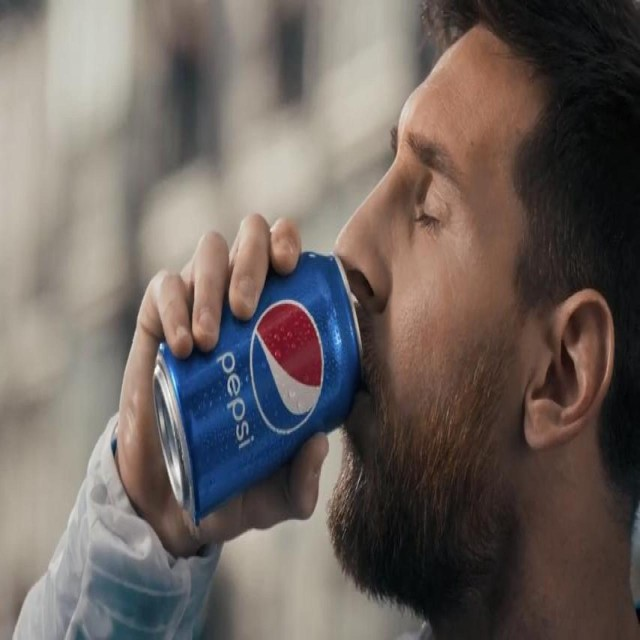pepsi: (250, 296, 324, 438)
